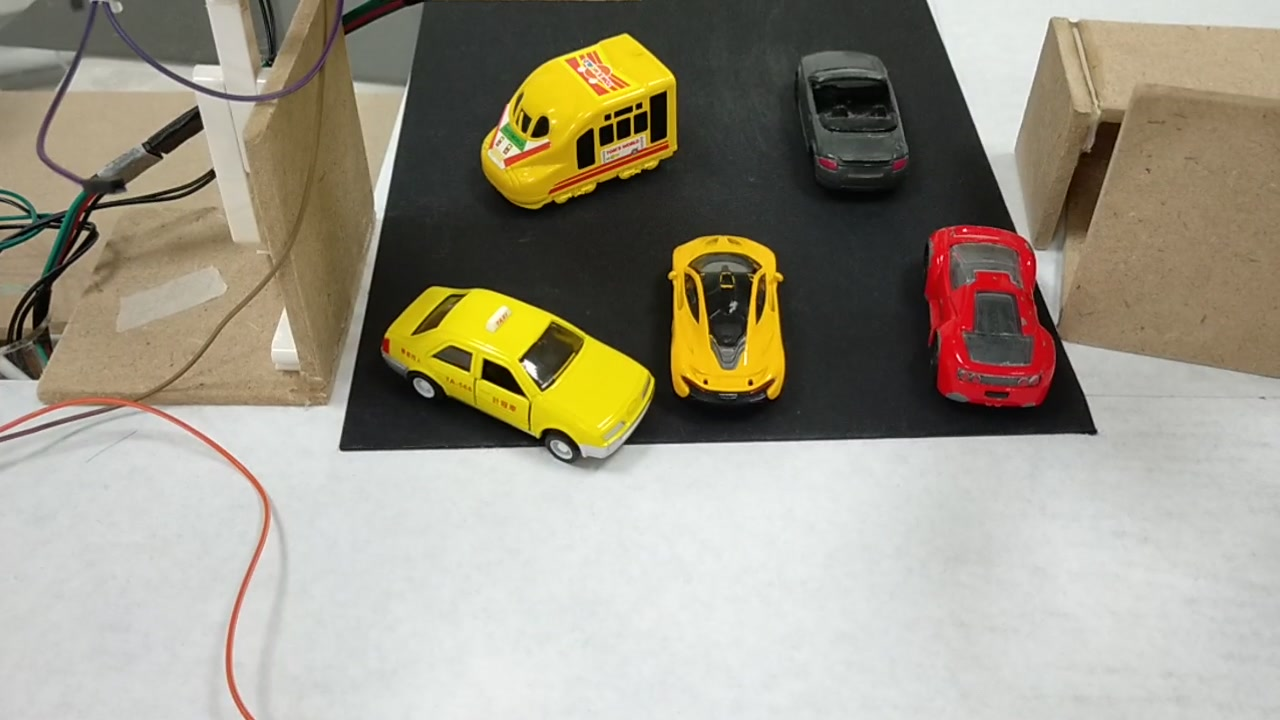car: (371, 285, 657, 477), (922, 222, 1060, 416), (664, 237, 784, 406), (787, 48, 911, 191)
